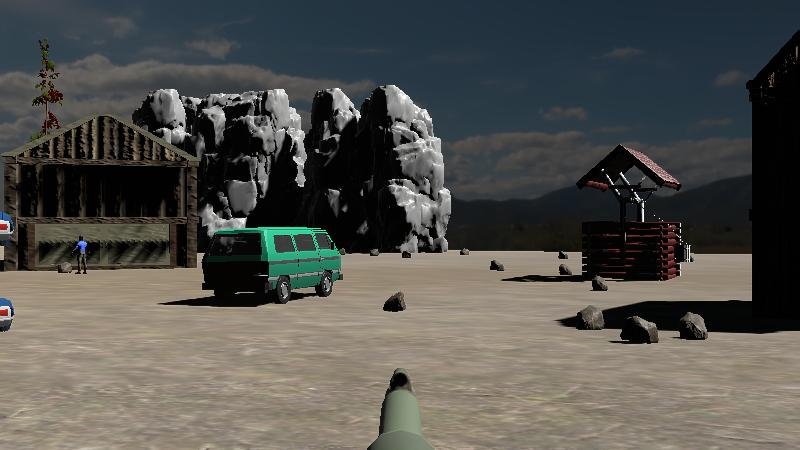House: (746, 12, 800, 363)
Human: (71, 233, 94, 278)
car: (199, 223, 345, 307), (0, 279, 16, 338), (0, 204, 14, 242)
